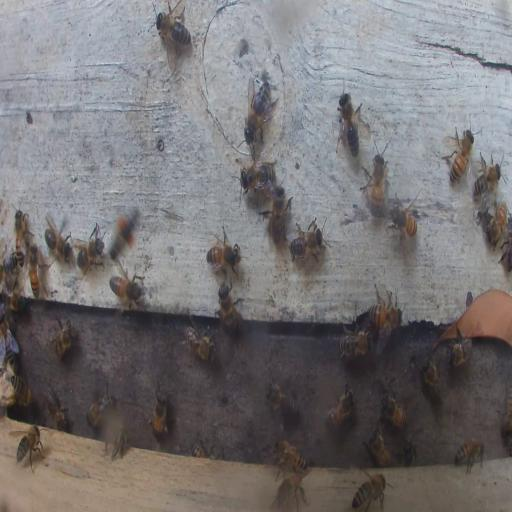bee: (243, 79, 278, 141), (361, 146, 388, 220), (109, 206, 142, 261), (336, 91, 363, 158), (156, 2, 192, 52), (446, 125, 475, 185), (264, 185, 293, 245), (75, 222, 106, 276), (324, 382, 356, 432), (289, 217, 324, 261), (110, 268, 146, 310), (206, 231, 241, 274), (183, 316, 216, 361), (352, 471, 389, 511), (14, 424, 44, 472), (264, 378, 300, 418), (388, 195, 418, 241), (43, 215, 71, 264), (472, 151, 503, 194), (366, 422, 392, 469), (453, 437, 486, 474), (86, 387, 114, 430), (273, 439, 309, 472), (218, 282, 240, 334), (368, 300, 401, 334), (380, 388, 406, 430), (338, 328, 372, 360), (240, 161, 276, 191), (486, 200, 508, 248), (420, 353, 442, 401), (274, 473, 308, 504), (498, 380, 512, 450), (53, 316, 75, 360), (47, 386, 68, 430), (151, 387, 168, 438), (0, 312, 18, 360), (447, 335, 473, 367), (8, 372, 32, 406), (104, 429, 128, 460), (28, 246, 40, 298), (2, 250, 24, 278), (14, 210, 26, 256), (400, 440, 418, 467), (4, 288, 26, 310), (192, 438, 211, 457)
